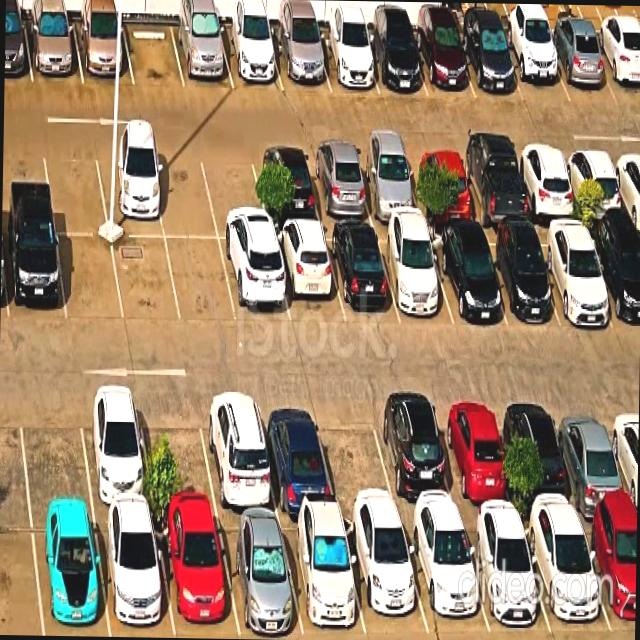car: (338, 520, 427, 630), (400, 525, 489, 633), (525, 524, 611, 628), (281, 525, 366, 629), (260, 422, 339, 528), (31, 526, 109, 633), (200, 423, 279, 528), (463, 532, 549, 627), (76, 421, 158, 519), (219, 532, 303, 627), (453, 146, 535, 243), (93, 530, 175, 626), (22, 424, 94, 527), (156, 532, 237, 622), (141, 428, 219, 521), (554, 419, 626, 515), (483, 245, 561, 327), (434, 424, 511, 507), (2, 220, 64, 323), (319, 426, 393, 511), (537, 240, 611, 325), (494, 418, 571, 497), (374, 240, 452, 317), (579, 526, 635, 631), (430, 242, 506, 319), (374, 424, 452, 499), (219, 230, 289, 312), (100, 150, 164, 238), (274, 236, 344, 313), (327, 240, 398, 315), (513, 156, 579, 235), (405, 156, 475, 228), (252, 158, 322, 228), (307, 161, 374, 234), (357, 154, 420, 228), (549, 31, 614, 98), (455, 35, 521, 100), (558, 155, 622, 222), (22, 20, 83, 85), (361, 32, 425, 93), (593, 242, 640, 324), (410, 32, 472, 94), (501, 36, 567, 94), (268, 29, 332, 87), (218, 28, 281, 86), (315, 33, 378, 90), (73, 21, 133, 80), (172, 23, 234, 79), (595, 30, 640, 94), (610, 155, 640, 225), (4, 2, 32, 77)
free: (164, 235, 233, 316), (110, 240, 177, 316), (54, 238, 120, 314), (44, 158, 107, 232), (154, 162, 217, 234), (203, 167, 267, 236), (122, 22, 182, 83), (3, 153, 53, 219)
